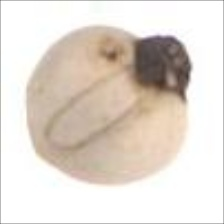L5: (41, 64, 149, 157), (132, 33, 194, 106), (26, 132, 66, 171)
L6: (23, 22, 193, 188)
